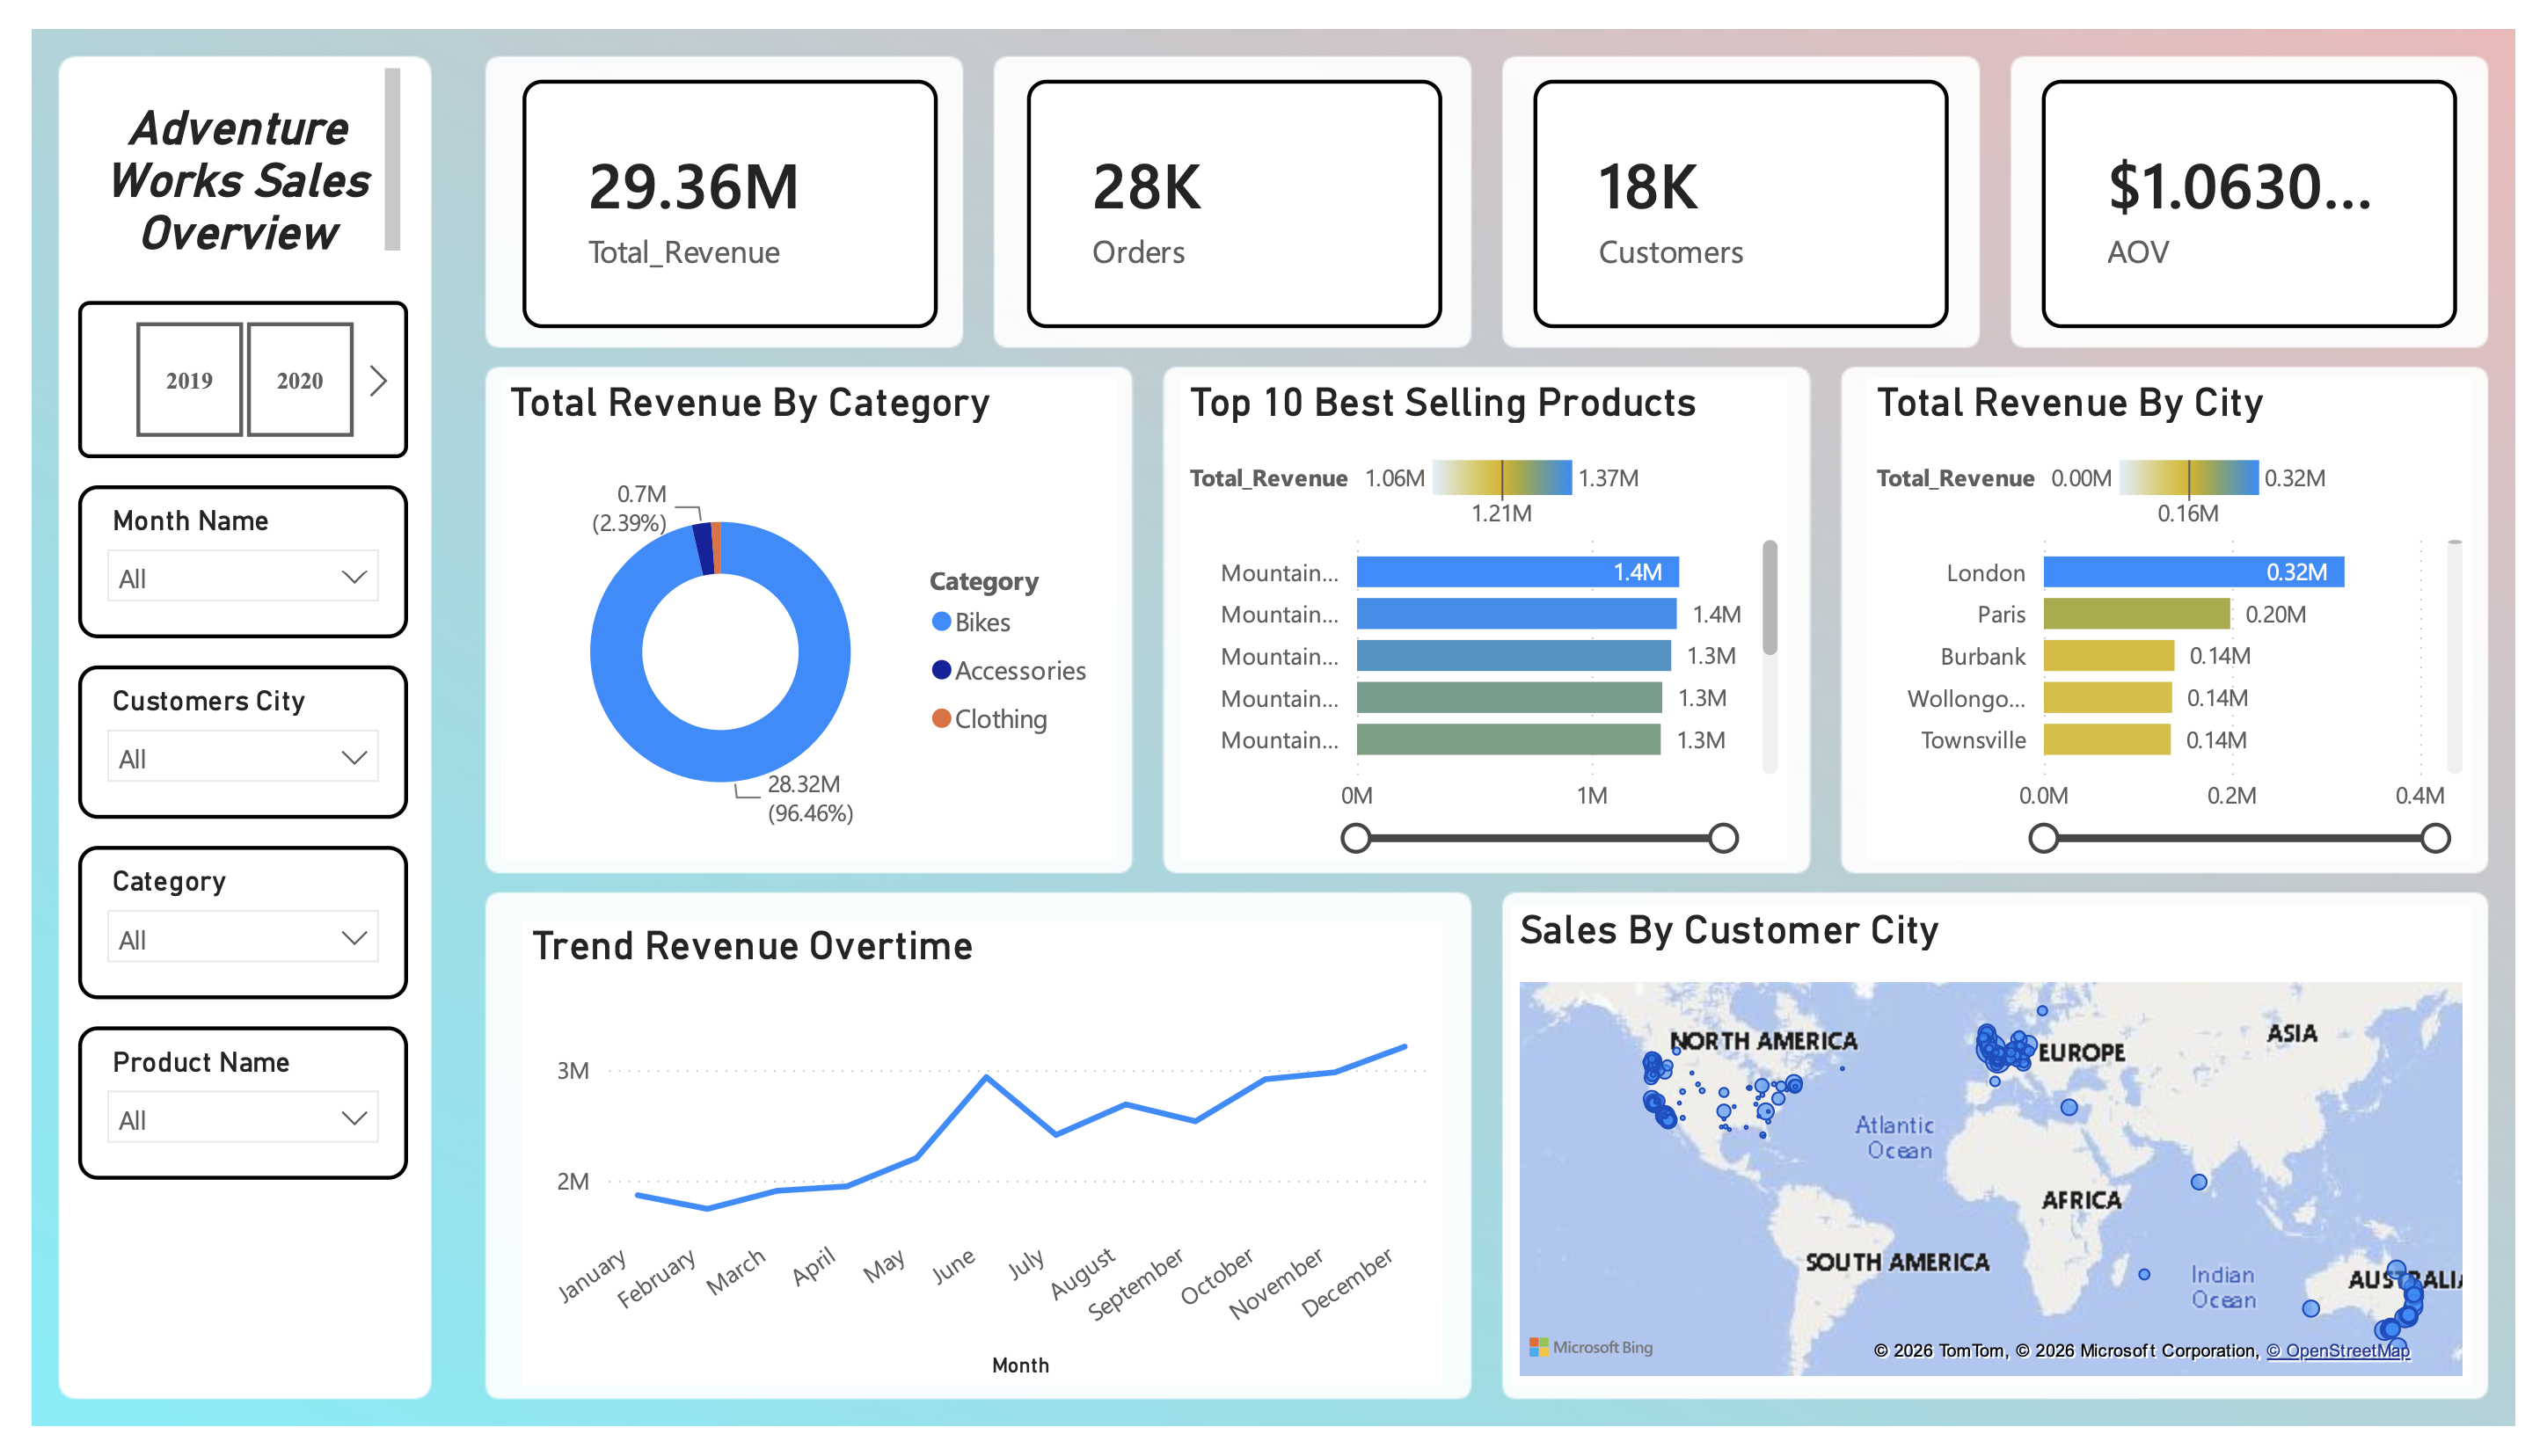

The page's visual inventory and layout, read from the dashboard file:
{"tool":"powerbi","page":{"name":"D1_AdventureWorks Sales Overview","canvas":[1280,720],"ordinal":0},"visuals":[{"type":"image","box":[0,0,1280,719.7],"z":0},{"type":"cardVisual","fields":{"Data":["Key Metrics.Total_Revenue"]},"box":[252.9,26.2,214.2,127.6],"z":1000},{"type":"cardVisual","fields":{"Data":["Key Metrics.Orders"]},"box":[512.7,26.2,214.2,127.6],"z":2000},{"type":"cardVisual","fields":{"Data":["Key Metrics.Customers"]},"box":[773.5,26.2,214.2,127.6],"z":3000},{"type":"cardVisual","fields":{"Data":["Key Metrics.AOV"]},"box":[1035.6,26.2,214.2,127.6],"z":4000},{"type":"slicer","fields":{"Values":["dim_date.year"]},"box":[23.9,140.3,169.7,80.9],"z":5000},{"type":"slicer","fields":{"Values":["dim_date.month_name"]},"box":[23.9,235.4,169.7,78.6],"z":6000},{"type":"clusteredBarChart","title":"Top 10 Best Selling Products","fields":{"Category":["dim_product.product_name"],"Y":["Key Metrics.Total_Revenue"]},"box":[592.4,179.9,312.3,248],"z":7000},{"type":"clusteredBarChart","title":"Total Revenue By City","fields":{"Category":["dim_geography.city"],"Y":["Key Metrics.Total_Revenue"]},"box":[945.6,180,312.3,248],"z":8000},{"type":"donutChart","title":"Total Revenue By Category","fields":{"Category":["dim_product.category"],"Y":["Key Metrics.Total_Revenue"]},"box":[241.5,180,317.8,248.4],"z":9000},{"type":"lineChart","title":"Trend Revenue Overtime","fields":{"Y":["Key Metrics.Total_Revenue"],"Category":["dim_date.date.Variation.Date Hierarchy.Year","dim_date.date.Variation.Date Hierarchy.Quarter","dim_date.date.Variation.Date Hierarchy.Month","dim_date.date.Variation.Date Hierarchy.Day"]},"box":[252.9,460.3,473.9,239.2],"z":10000},{"type":"textbox","box":[25.1,14.8,169.7,105.9],"z":11000},{"type":"slicer","fields":{"Values":["dim_product.category"]},"box":[23.9,421.1,169.7,78.6],"z":12000},{"type":"slicer","fields":{"Values":["dim_geography.city"]},"box":[23.9,328.2,169.7,78.6],"z":13000},{"type":"slicer","fields":{"Values":["dim_product.product_name"]},"box":[23.9,513.9,169.7,78.6],"z":14000},{"type":"map","title":"Sales By Customer City","fields":{"Category":["dim_geography.city"],"Size":["Key Metrics.Total_Revenue"]},"box":[762.1,452.4,496.1,246.7],"z":15000}]}

Visuals, with their boxes in screenshot pixels (x1, y1, x2, y2), scaled from the page's 1280x720 canvas onto the 2547x1456 screenshot:
image: 0 0 2546 1455
cardVisual - Key Metrics.Total_Revenue: 503 53 930 311
cardVisual - Key Metrics.Orders: 1020 53 1447 311
cardVisual - Key Metrics.Customers: 1539 53 1966 311
cardVisual - Key Metrics.AOV: 2061 53 2487 311
slicer - dim_date.year: 47 284 385 448
slicer - dim_date.month_name: 47 476 385 635
"Top 10 Best Selling Products" clusteredBarChart: 1179 364 1800 865
"Total Revenue By City" clusteredBarChart: 1881 364 2503 865
"Total Revenue By Category" donutChart: 480 364 1113 866
"Trend Revenue Overtime" lineChart: 503 931 1446 1415
textbox: 50 30 388 244
slicer - dim_product.category: 47 852 385 1010
slicer - dim_geography.city: 47 664 385 823
slicer - dim_product.product_name: 47 1039 385 1198
"Sales By Customer City" map: 1516 915 2504 1414
